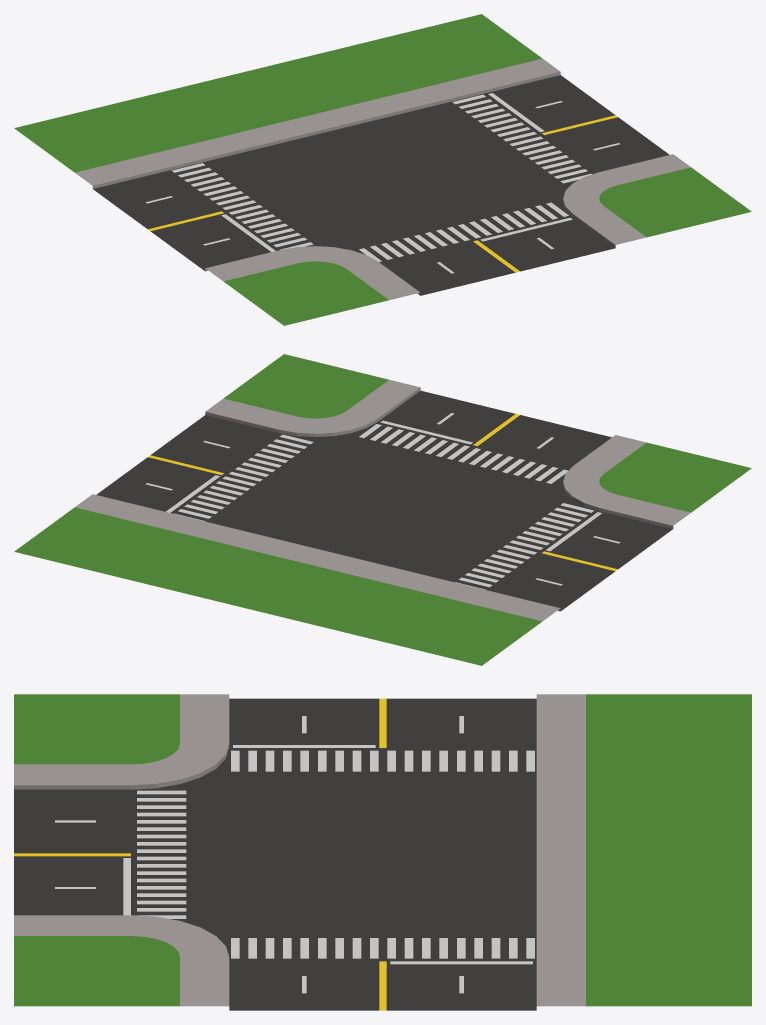
Rendered from tiles-nb_tile-mainroad-intersection-t-nb.fbx.
The picture shows the model from 3 angles, top to bottom: view 1: azimuth 30°, elevation 25°; view 2: azimuth 150°, elevation 25°; view 3: azimuth 270°, elevation 25°; orthographic projection. The views are drawn at different scales.
Parts seen in each view (by area): view 1: tiles_nb_tile_mainroad_intersection_t_nb; view 2: tiles_nb_tile_mainroad_intersection_t_nb; view 3: tiles_nb_tile_mainroad_intersection_t_nb.
Part boxes in pixels (left/top/right/bottom): tiles_nb_tile_mainroad_intersection_t_nb: left=14, top=14, right=751, bottom=325; tiles_nb_tile_mainroad_intersection_t_nb: left=14, top=354, right=751, bottom=665; tiles_nb_tile_mainroad_intersection_t_nb: left=14, top=694, right=751, bottom=1010.
Bounding box in the file's own units: 200 × 1.33 × 200.
